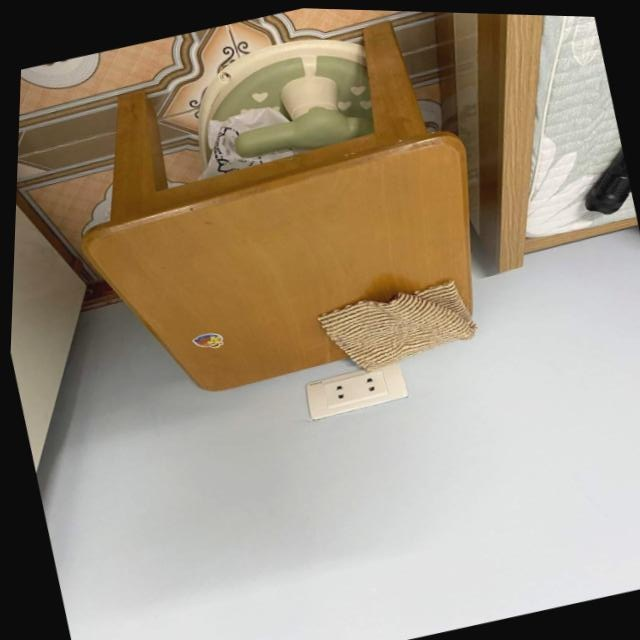outlet: (300, 358, 410, 425)
